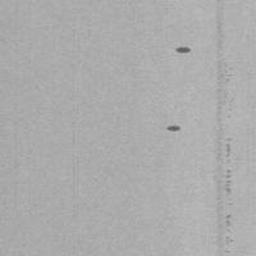Inclusion: (221, 214, 234, 253), (223, 169, 234, 207), (224, 136, 234, 159), (175, 46, 191, 54), (166, 124, 182, 132)
